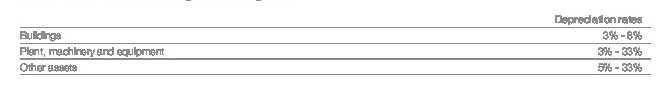table: (0, 0, 666, 91)
